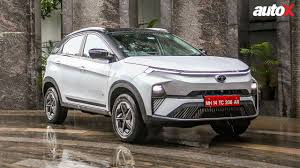Tata Nexon: (41, 26, 260, 142)
